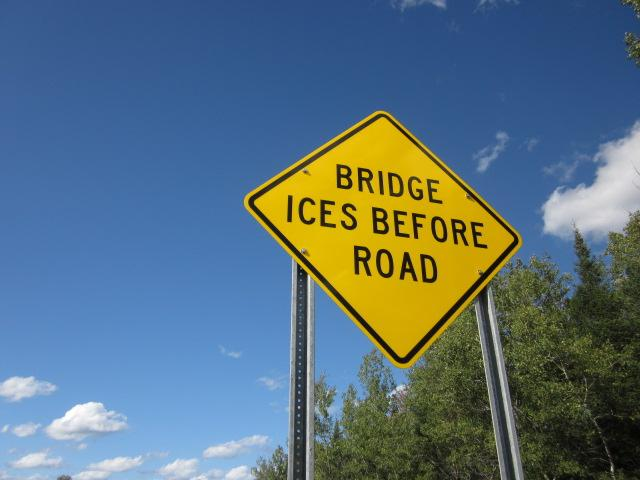warning: (244, 107, 528, 371)
